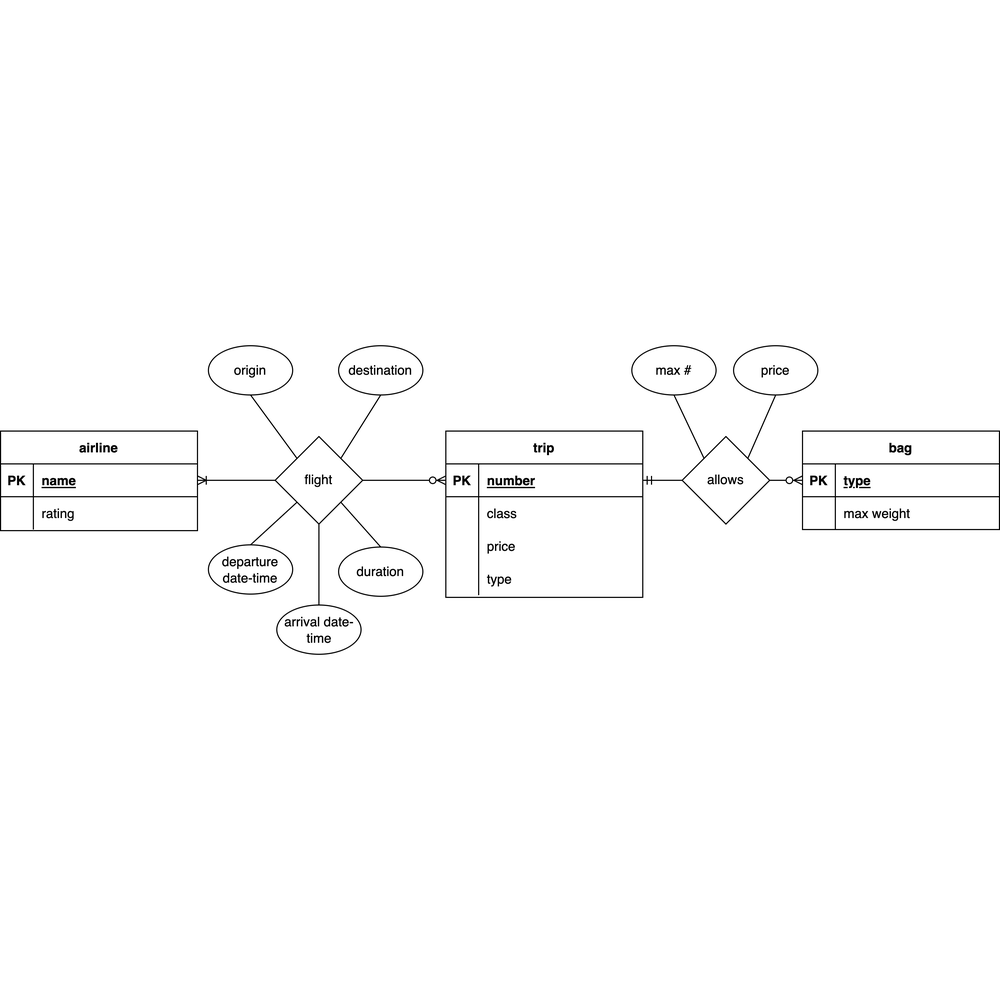attribute: (608, 333, 729, 404), (260, 601, 379, 664), (199, 339, 304, 401), (732, 334, 820, 399), (331, 543, 426, 600), (335, 342, 428, 399), (204, 542, 297, 599)
entity: (439, 421, 650, 605), (1, 417, 204, 537), (795, 418, 1000, 536)
relationship: (260, 430, 374, 524), (679, 429, 778, 527)
